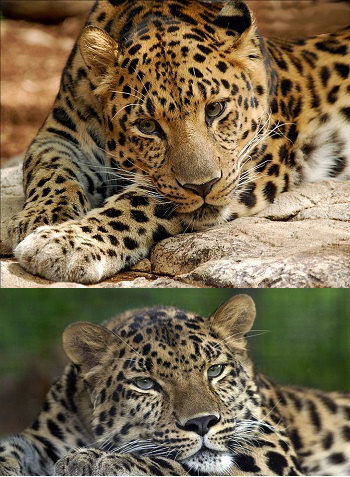amur_leopard: (56, 2, 297, 268), (19, 293, 342, 471)
